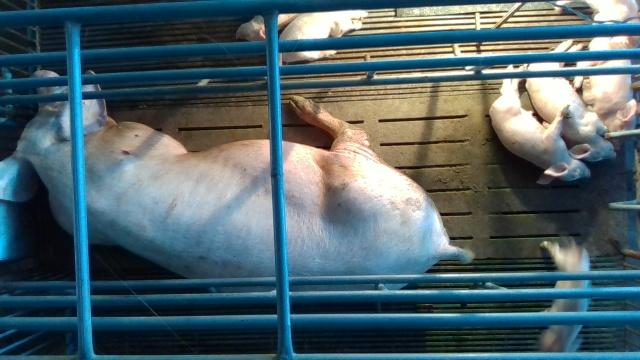piglet: (490, 66, 591, 186), (523, 40, 618, 162), (574, 36, 640, 146), (540, 239, 590, 352), (280, 9, 367, 66)
sow-sit: (0, 69, 475, 293)
